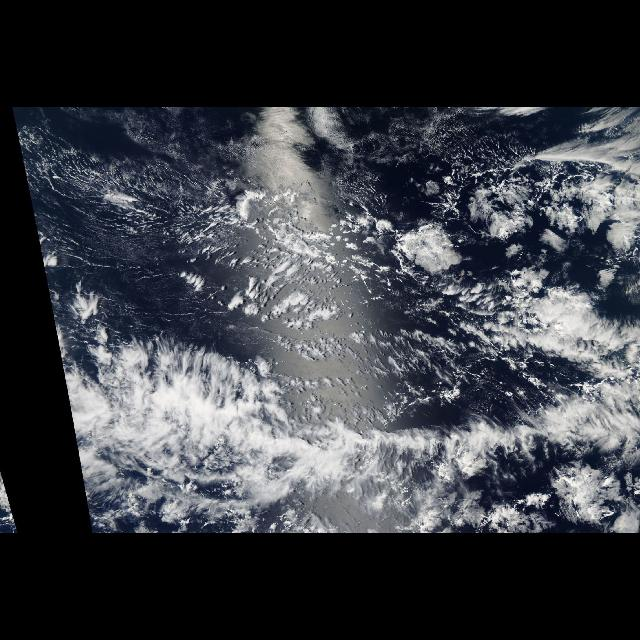Fish: (55, 162, 639, 518)
